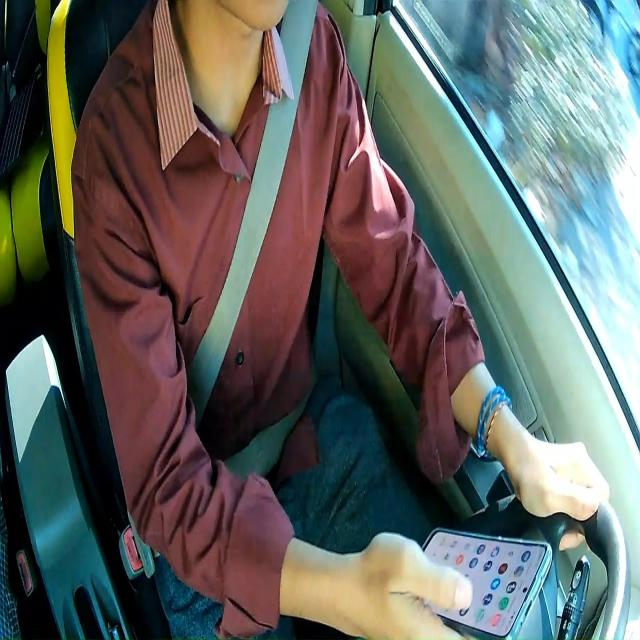phone: (420, 522, 552, 638)
